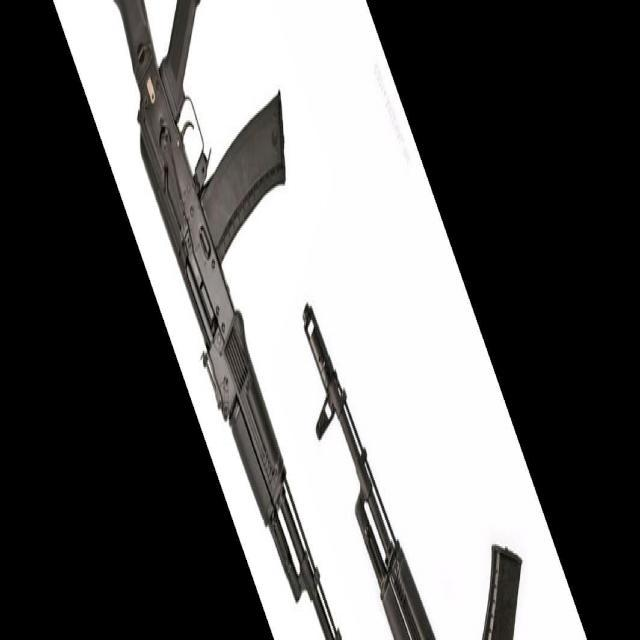weapon: (114, 2, 342, 640), (303, 300, 523, 640)
